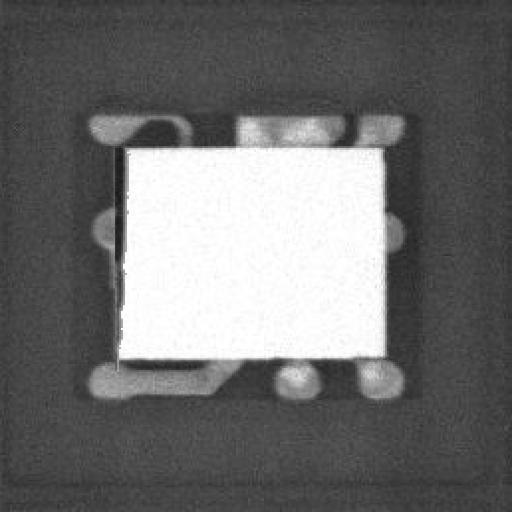DIE_BROKEN: (107, 142, 131, 342)
